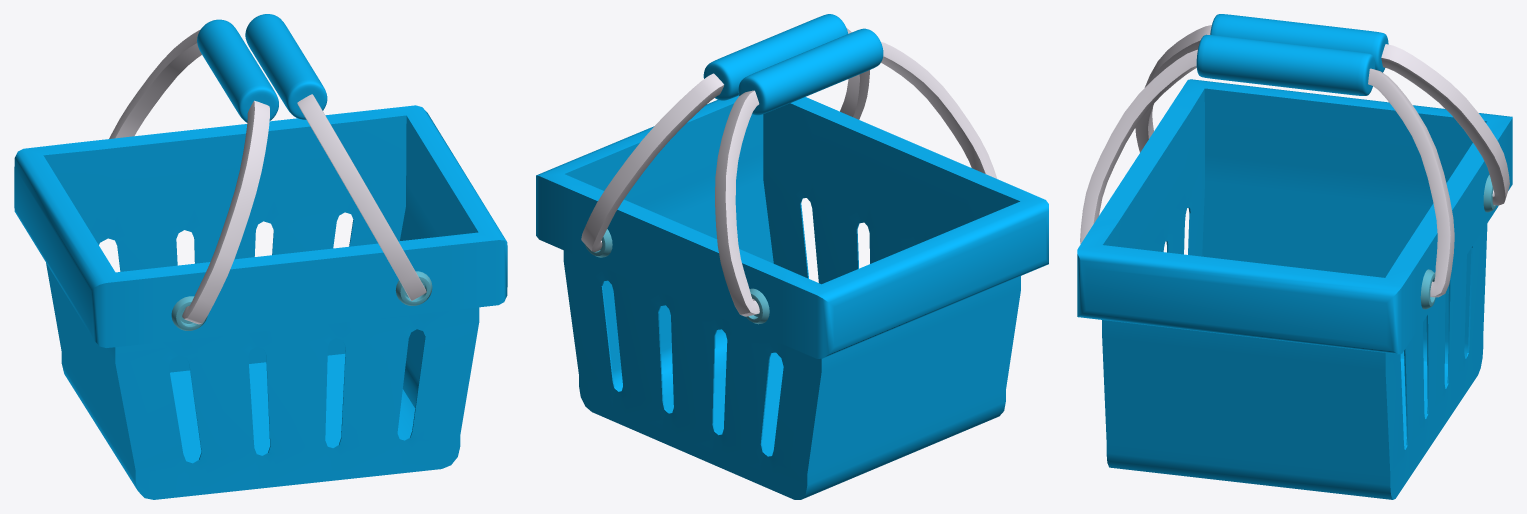
File: basket.glb
3 views of the same model, side by side, from view 1: azimuth 30°, elevation 25°; view 2: azimuth 150°, elevation 25°; view 3: azimuth 270°, elevation 25° (orthographic). The views are drawn at different scales.
Parts seen in each view (by area): view 1: Cube, Plane, Cylinder.003, Cylinder.002, Cylinder; view 2: Cube, Plane, Cylinder.002, Cylinder.003, Cylinder; view 3: Cube, Plane, Cylinder.003, Cylinder.002, Cylinder.
Part boxes in pixels (left/top/right/bottom): Cube: left=14, top=105, right=507, bottom=499; Plane: left=109, top=29, right=426, bottom=324; Cylinder.003: left=245, top=14, right=327, bottom=119; Cylinder.002: left=197, top=19, right=278, bottom=122; Cylinder: left=171, top=271, right=432, bottom=330; Cube: left=536, top=95, right=1048, bottom=499; Plane: left=581, top=28, right=997, bottom=316; Cylinder.002: left=738, top=28, right=883, bottom=115; Cylinder.003: left=703, top=14, right=848, bottom=100; Cylinder: left=584, top=229, right=769, bottom=324; Cube: left=1077, top=79, right=1512, bottom=499; Plane: left=1080, top=25, right=1509, bottom=297; Cylinder.003: left=1196, top=34, right=1375, bottom=95; Cylinder.002: left=1210, top=14, right=1388, bottom=72; Cylinder: left=1420, top=175, right=1496, bottom=309.
Size of the model in its own units: 3.45 by 2.89 by 2.96.
